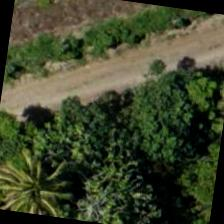Kelapa_Sawit: (0, 136, 76, 219)
